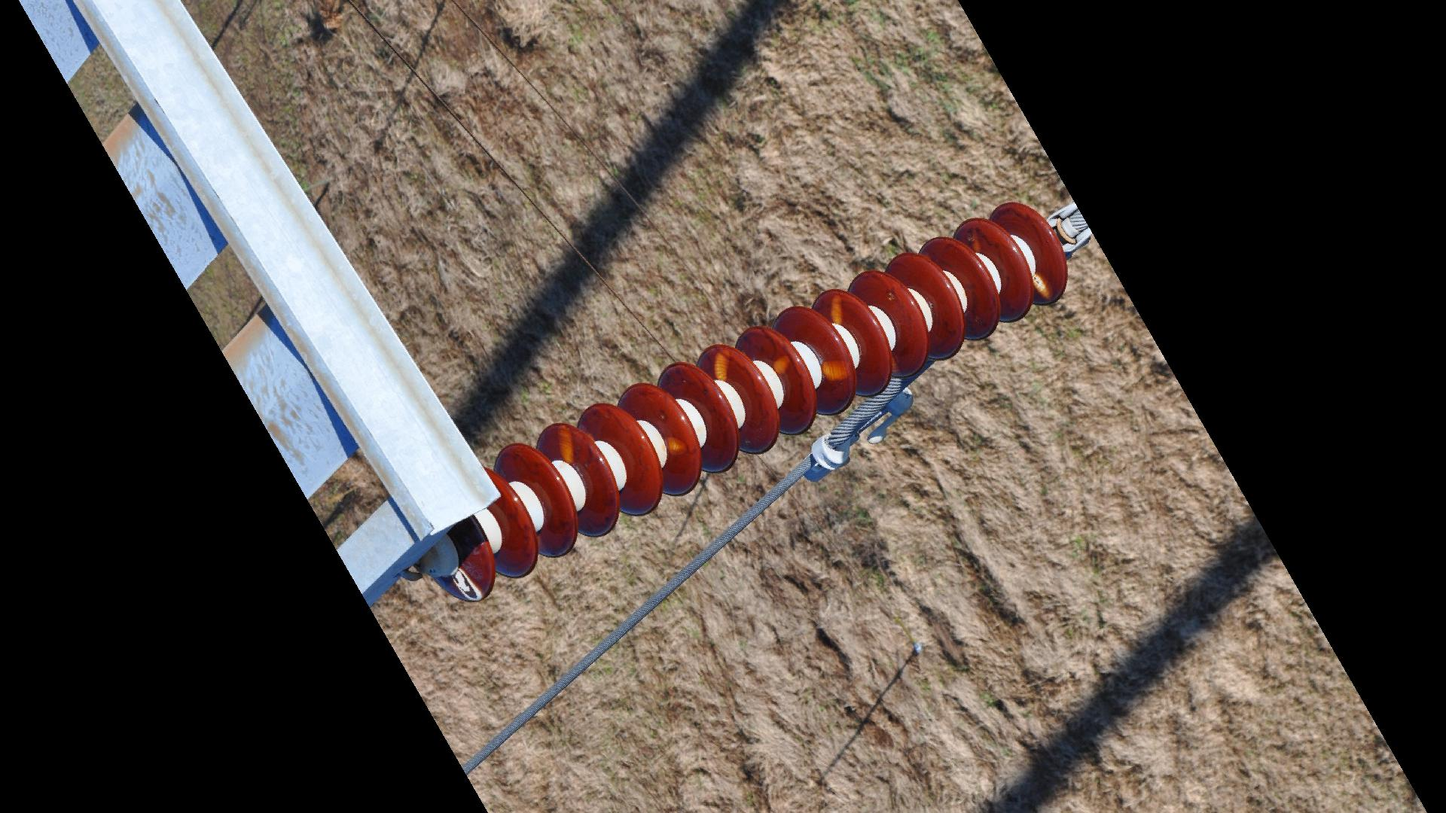insulator: (426, 196, 1073, 607)
insulator_flashover: (446, 563, 487, 605), (556, 423, 577, 466), (819, 358, 854, 383), (711, 347, 733, 382), (660, 434, 691, 458), (827, 292, 846, 325), (1030, 273, 1051, 301), (771, 351, 792, 377)
